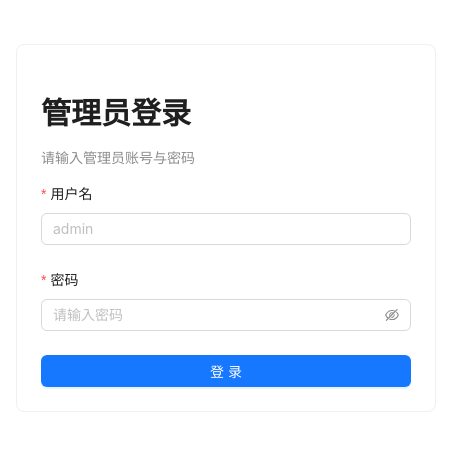
LoginPage › closes error alert when close button is clicked
The image size is (453, 457).
In the field with placeholder "admin": point(226, 229) [41,213,411,245], type "wronguser"
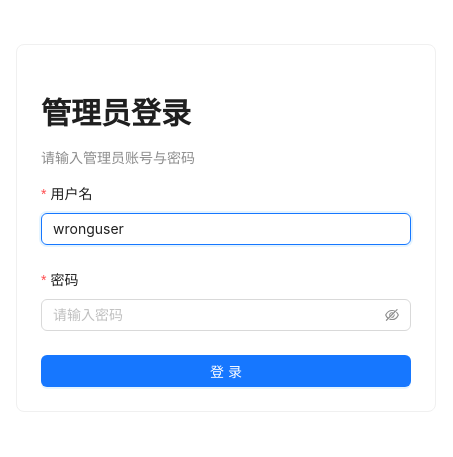
In the password field with placeholder "请输入密码": point(217, 315) [53,304,381,326], type "wrongpass"
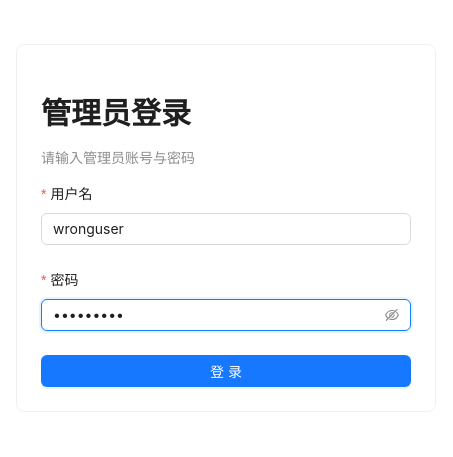
Click the button "登 录": point(226, 371) [41,355,411,387]
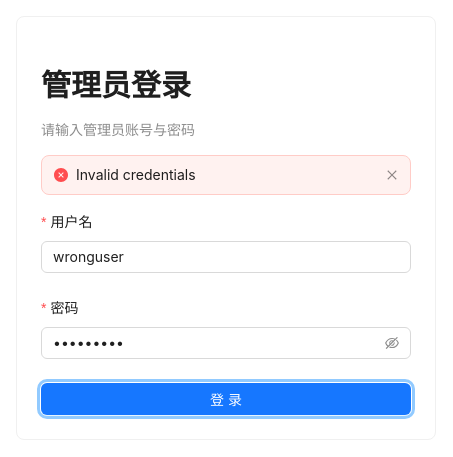
Now the text "Invalid credentials" is shown, box [76,166,196,183]
Click the button named "close": point(392, 175) [386,169,398,181]
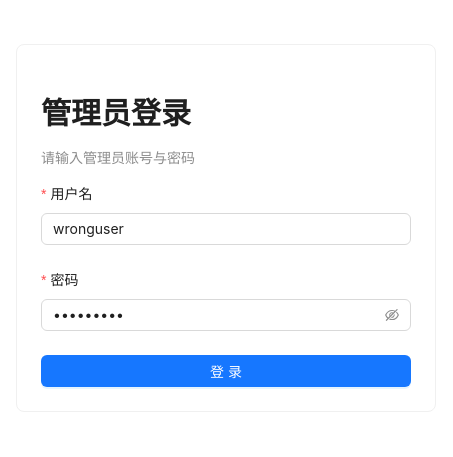
Now the text "Invalid credentials" is gone
